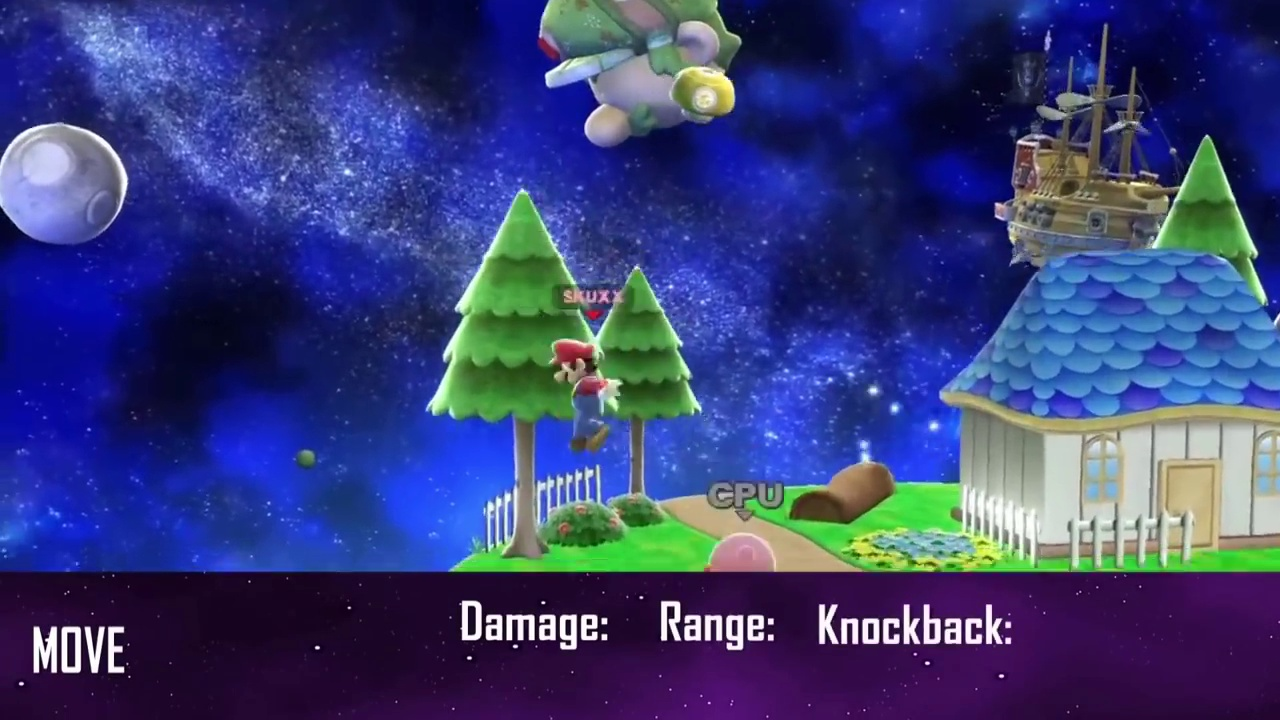Mario: (549, 338, 624, 455)
